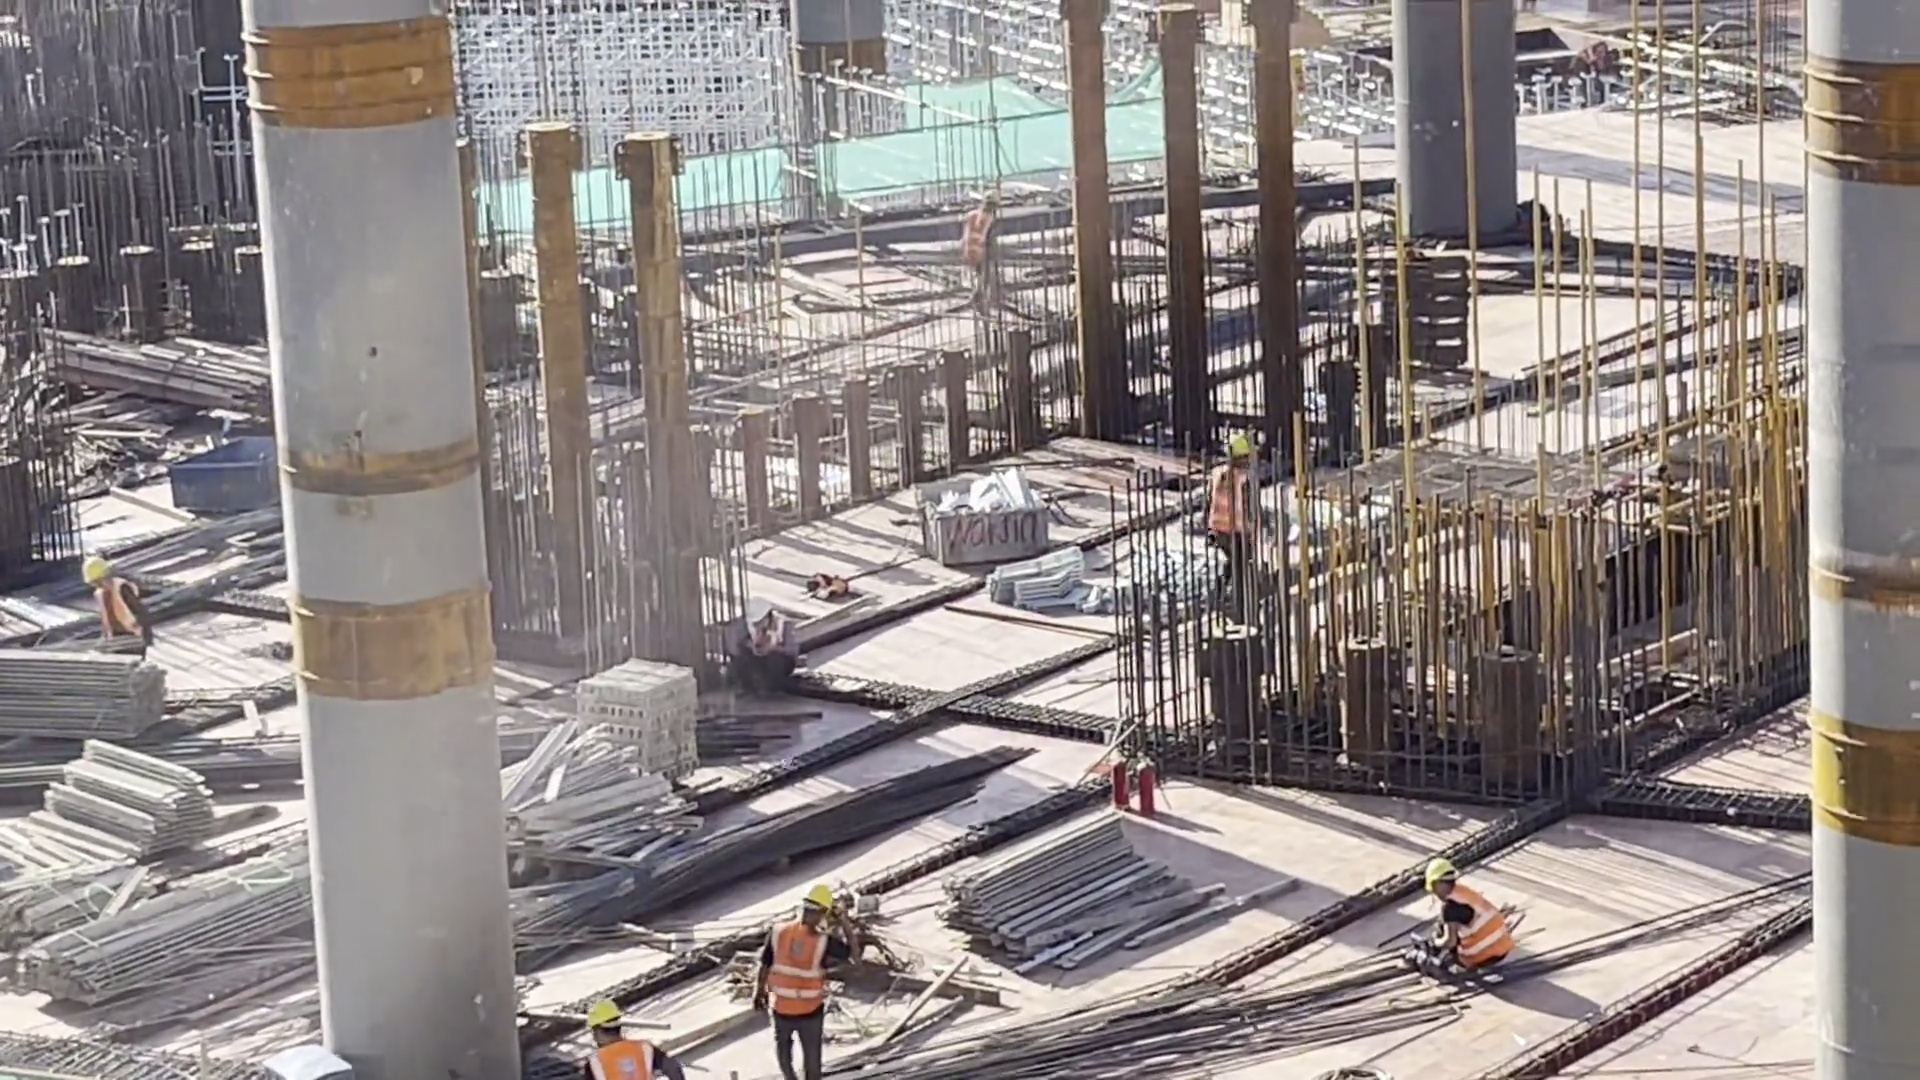helmet: (1419, 853, 1464, 894), (736, 591, 773, 630), (585, 991, 621, 1026), (81, 553, 111, 586), (807, 876, 832, 911), (1223, 426, 1248, 450), (982, 185, 995, 204)
person: (749, 874, 868, 1080), (1401, 848, 1541, 993), (1196, 420, 1280, 600), (548, 974, 691, 1080), (71, 526, 147, 668), (722, 579, 806, 694), (959, 163, 1011, 304)
vest: (770, 909, 822, 1016), (1447, 891, 1515, 967), (1204, 454, 1252, 539), (86, 575, 138, 637), (584, 1034, 645, 1080)
